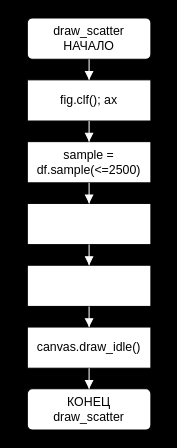
The diagram is 177 pixels wide and 448 high, and some of its shapes have lost their labels. Each missing label, with the centre of its shape:
sns.scatterplot(hue=zone): the point at 88,223
Заголовок, оси: the point at 88,285
